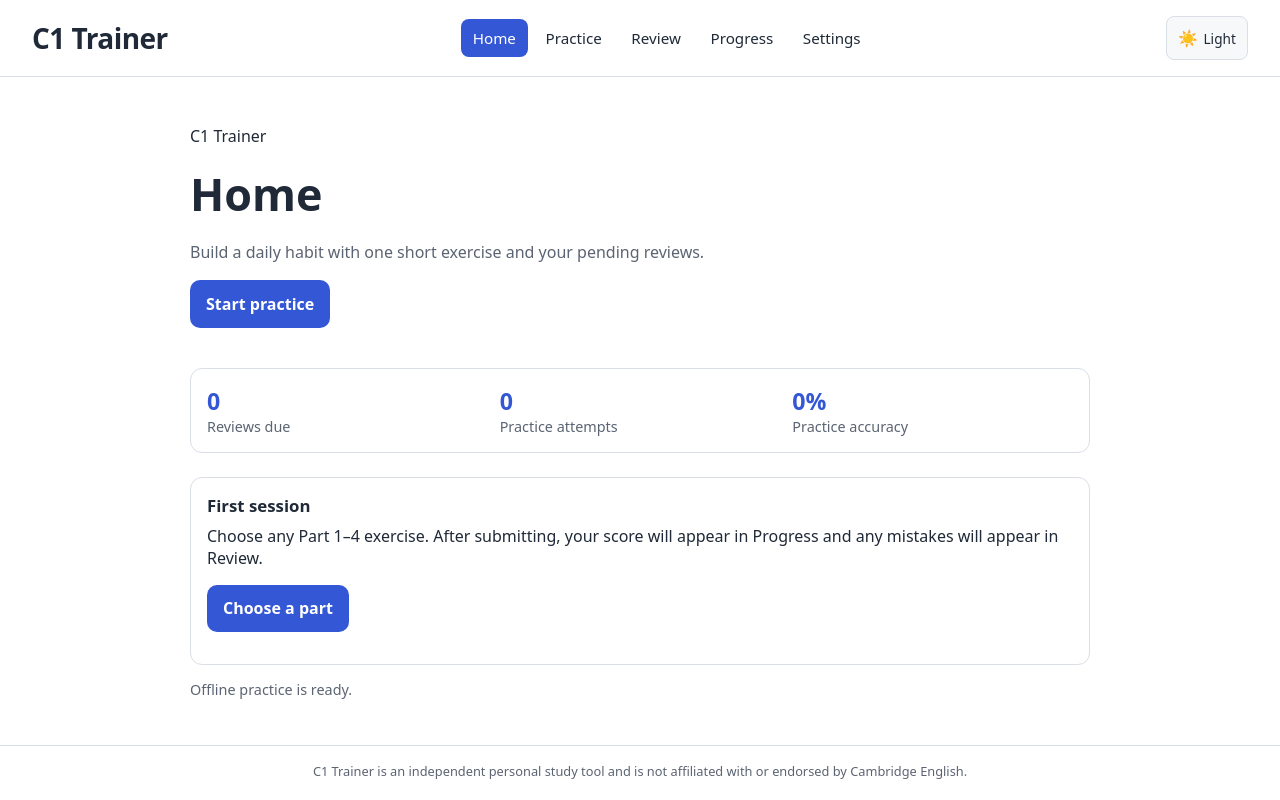
Test: C1 Trainer theme › supports light/dark theme changes from the shell
The image size is (1280, 800).
Click the button with aria-label "use dark theme": (1207, 38) x1=1166 y1=16 x2=1248 y2=60
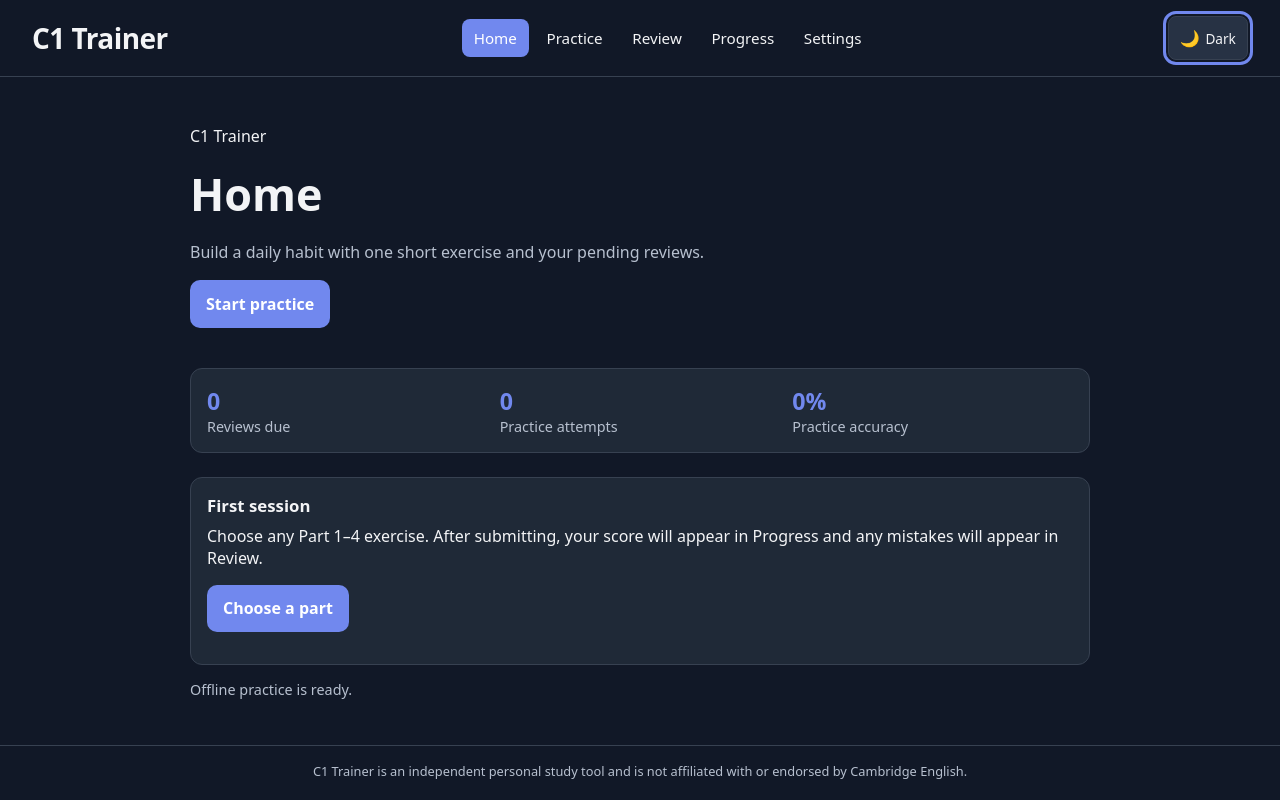
Expected: the button with aria-label "use light theme" is shown, x1=1168 y1=16 x2=1248 y2=60
